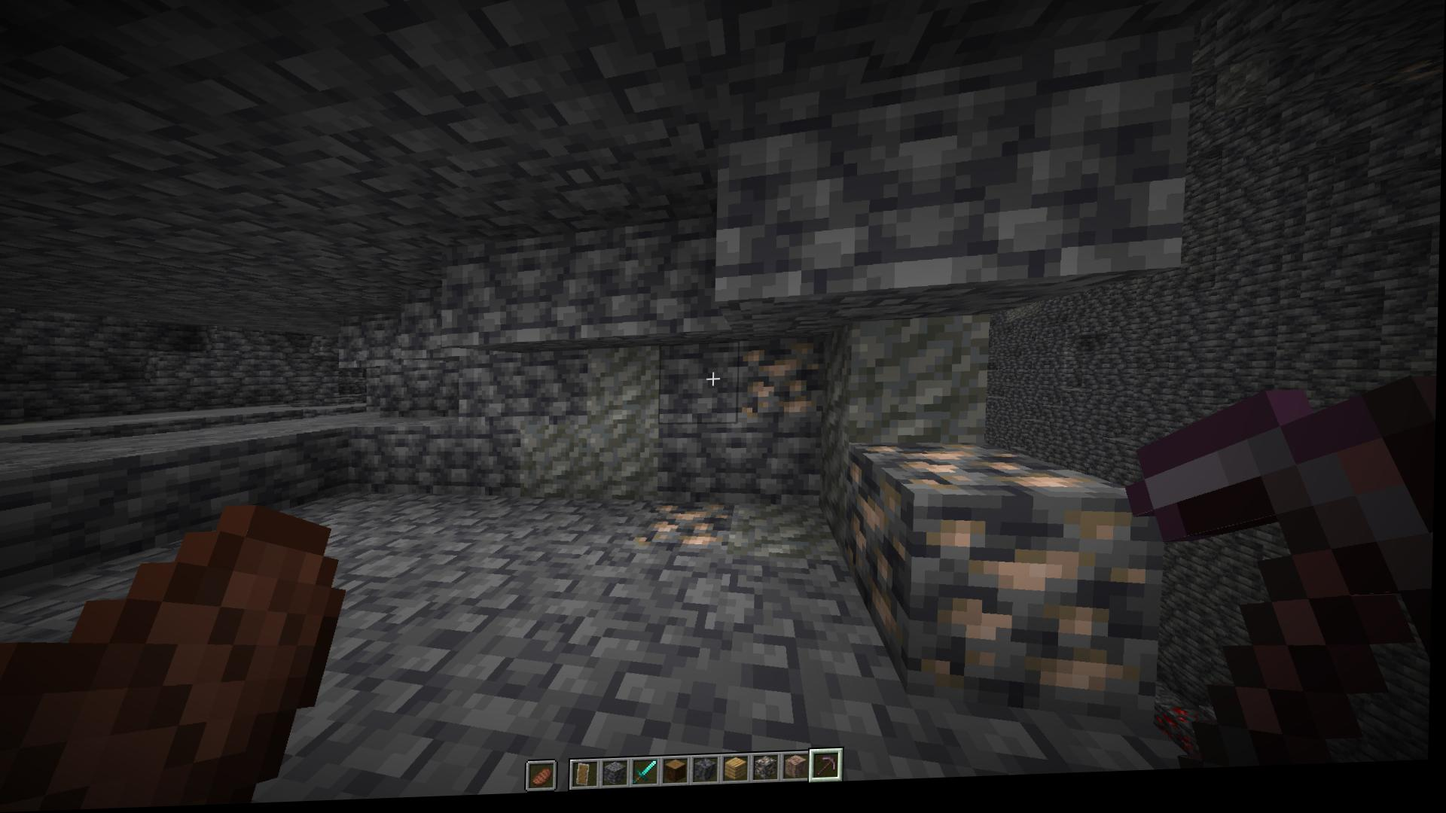iron ore: (906, 501, 1157, 716), (866, 438, 1112, 510), (844, 465, 911, 672), (742, 343, 824, 428), (632, 502, 735, 560)
